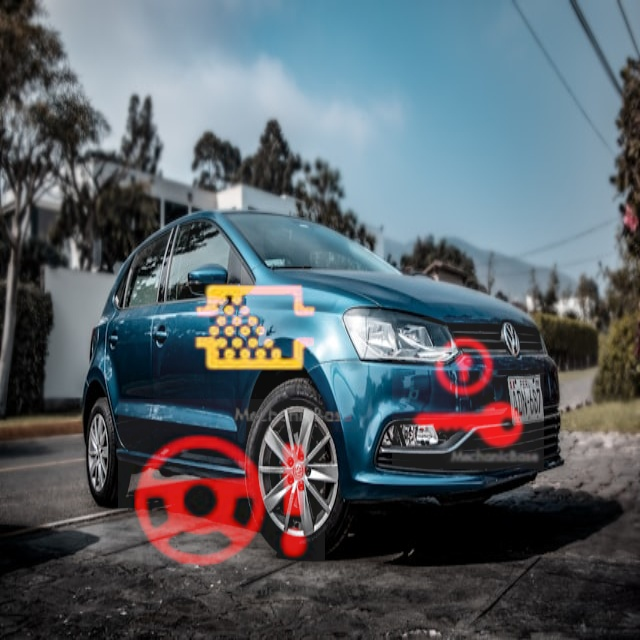symbol: (153, 225, 360, 432), (118, 399, 325, 606), (392, 317, 544, 469)
